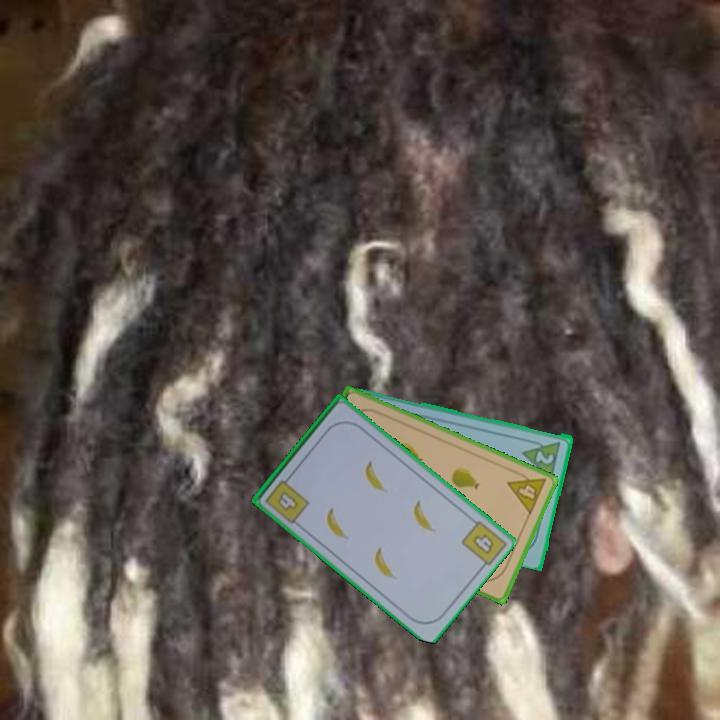2p: (519, 435, 564, 480)
4b: (261, 471, 312, 527), (469, 530, 497, 557)
4p: (504, 466, 549, 518)
